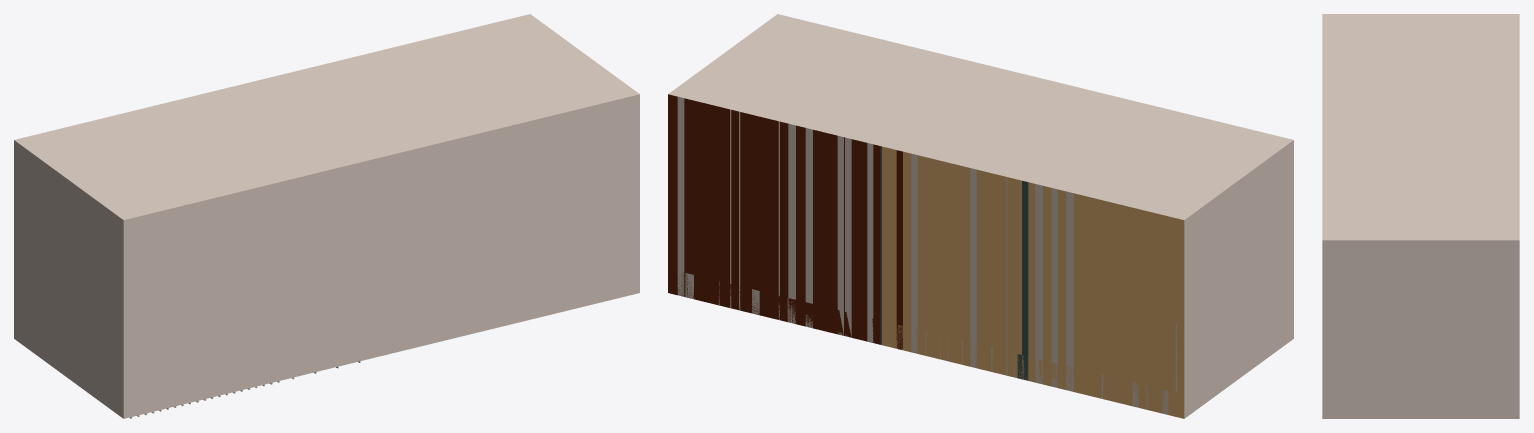
The picture shows the model from 3 angles, left to right: view 1: azimuth 30°, elevation 25°; view 2: azimuth 150°, elevation 25°; view 3: azimuth 270°, elevation 25°; orthographic projection. The views are drawn at different scales.
Visible parts, largest first — view 1: Cube; view 2: Cube; view 3: Cube.
Boxes of the visible parts, x1,y1,x2,y2 form: Cube: (14, 14, 639, 418); Cube: (668, 14, 1293, 418); Cube: (1322, 14, 1519, 418).
Bounding box in the file's own units: 3121 × 1158 × 1148.
